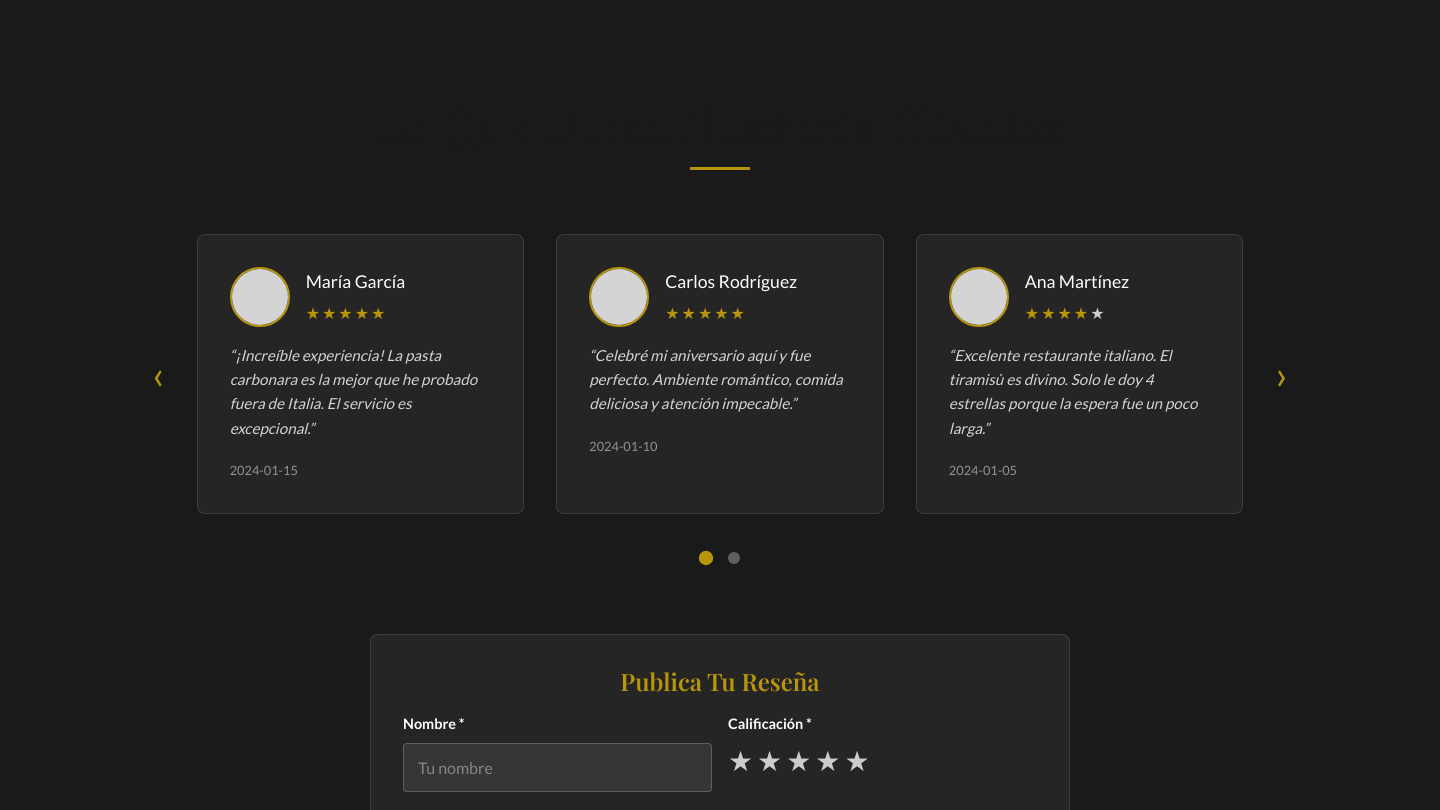
Test: Reviews › shows error message when publish fails
The image size is (1440, 810).
Type "Spammer" into the field labelled "Nombre *" at (558, 768), box [403,743,712,792]
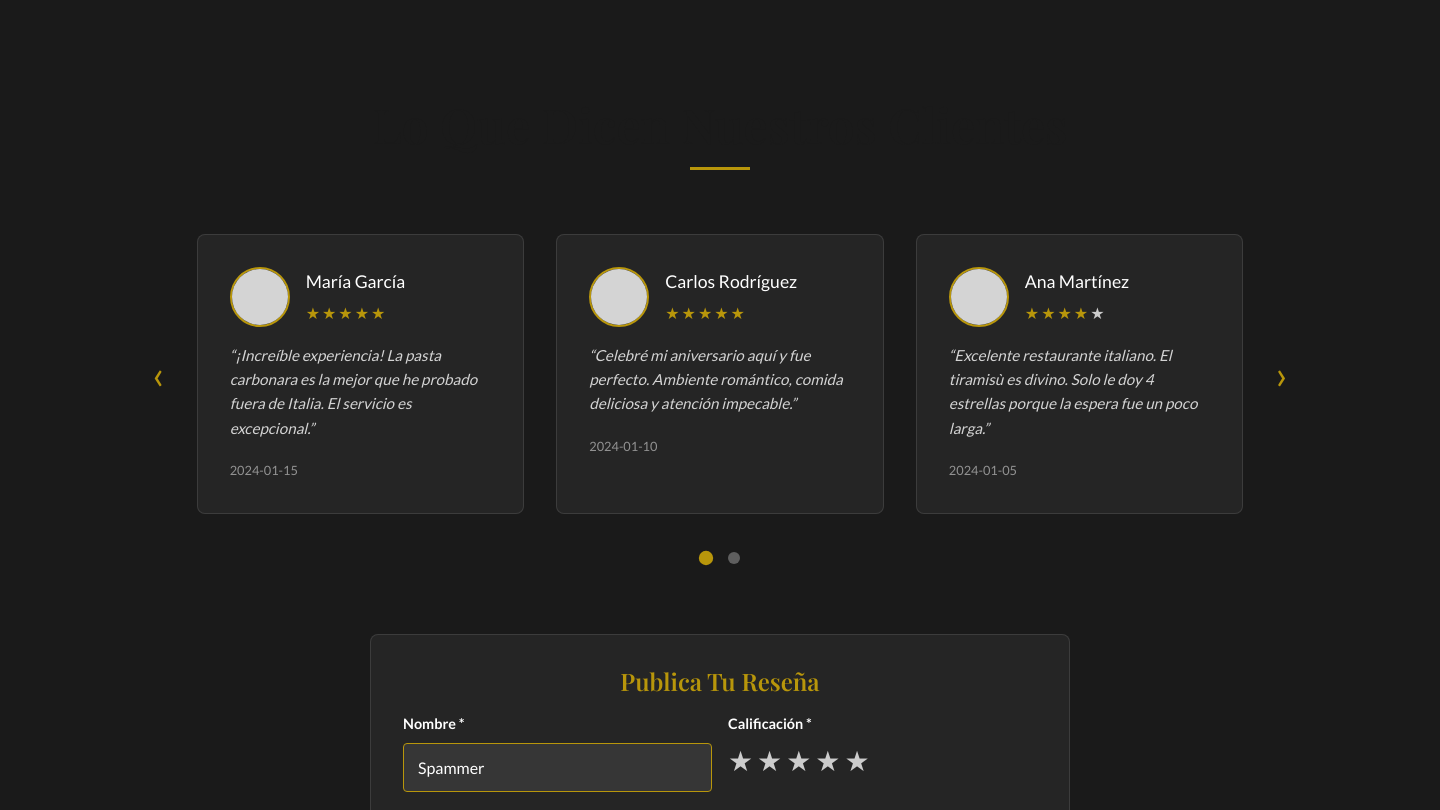
Click the button named "1 estrella" at (741, 761), box [728,743,753,778]
(page scrolled)
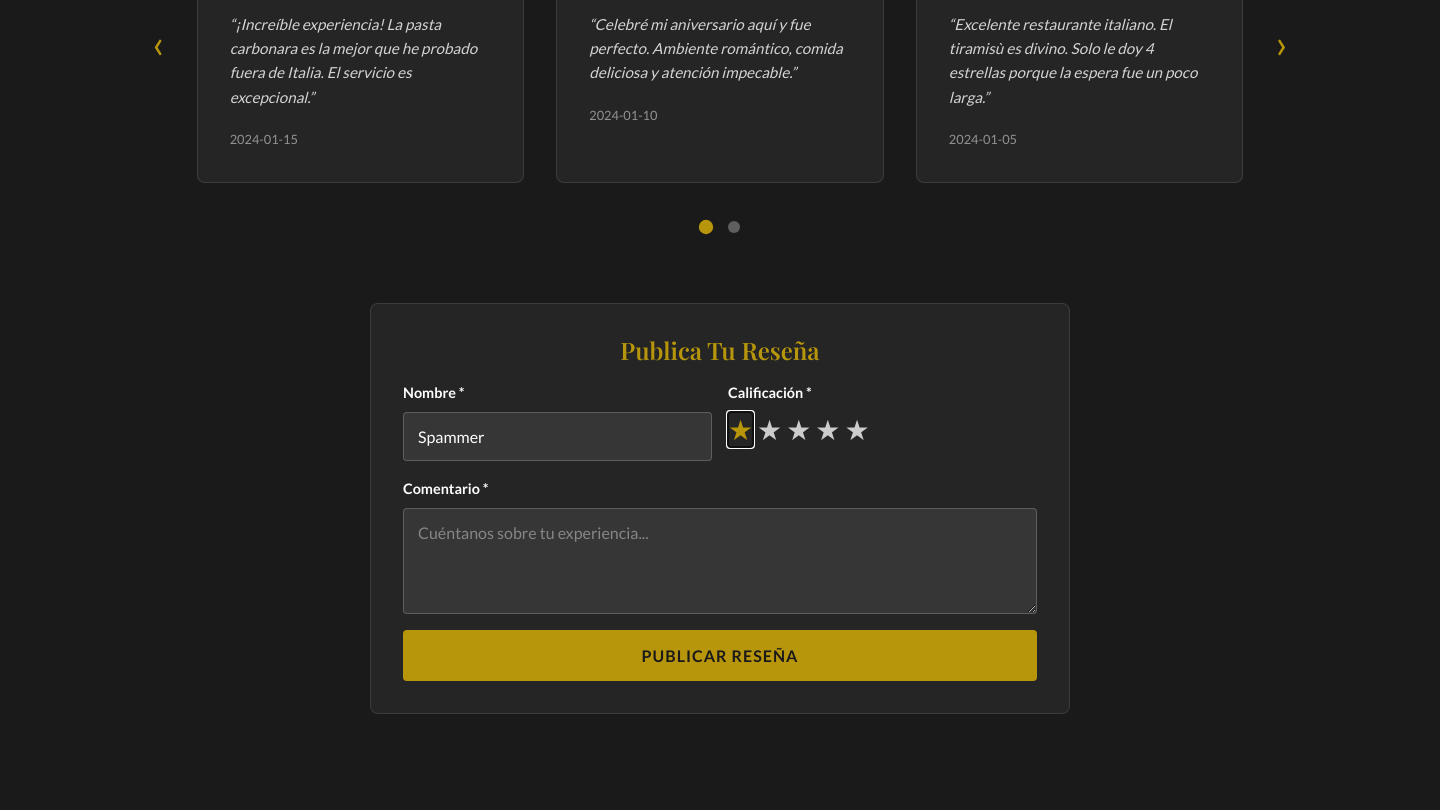
Type "Esto es un comentario de prueba." into the text box labelled "Comentario *" at (720, 561), box [403,508,1037,614]
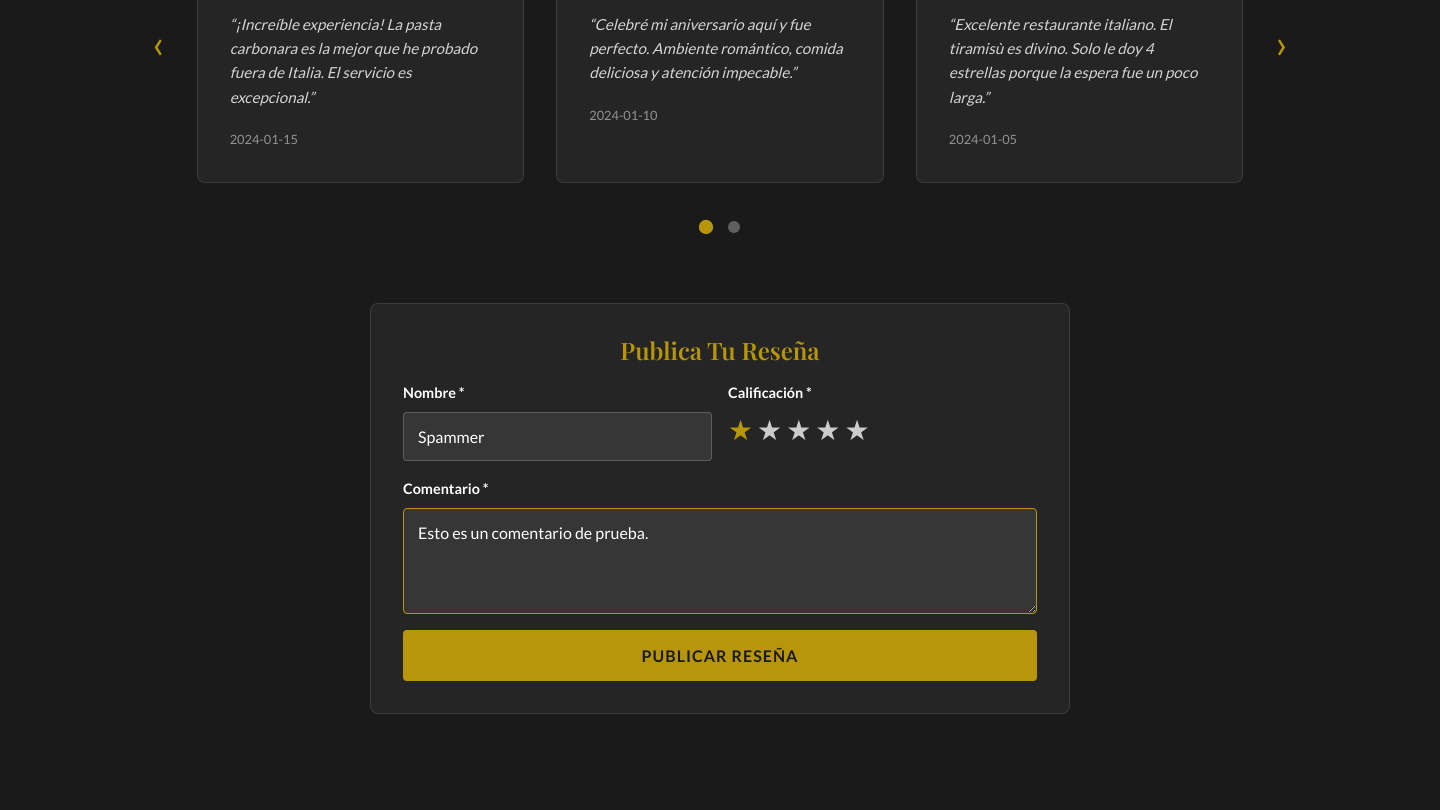
Click the button "Publicar Reseña" at (720, 656), box [403,630,1037,681]
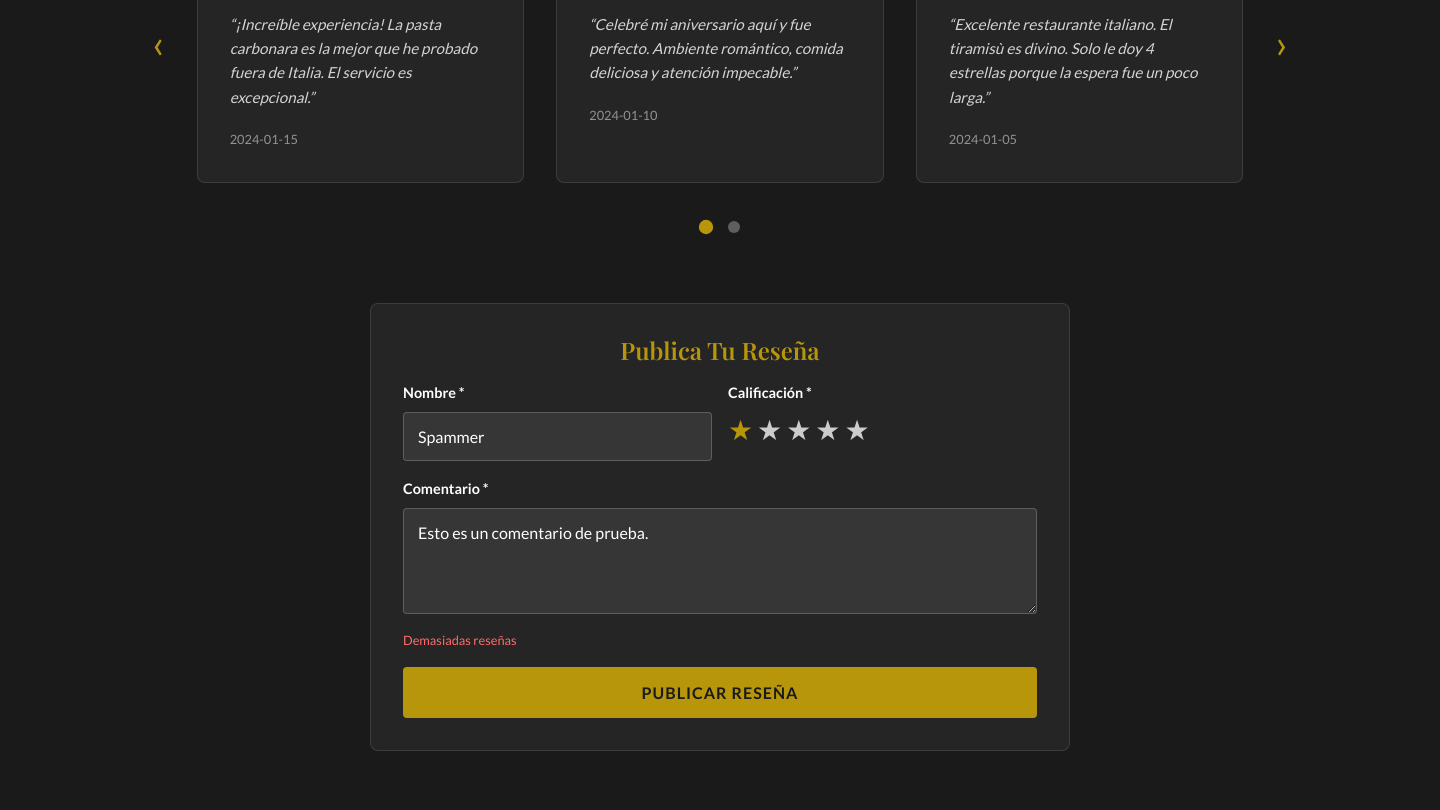
expect the text "Demasiadas reseñas" is shown: met, box [403,632,517,648]
